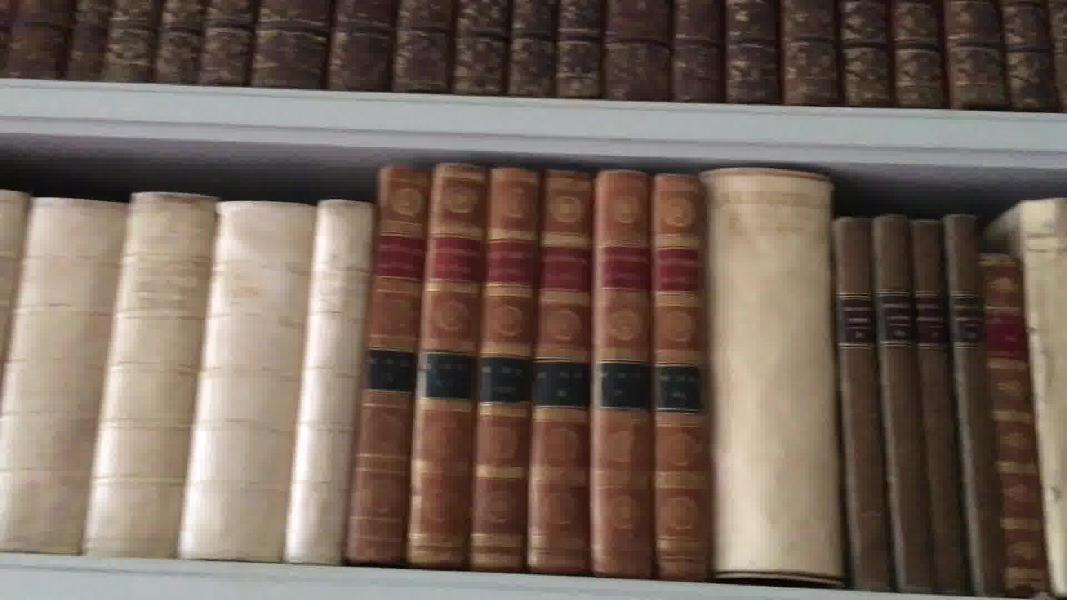Kk4-14: (693, 158, 846, 596)
Kk4-15_16: (829, 214, 938, 600)
Kk4-17_18: (906, 208, 991, 600)
Kk4-19: (972, 246, 1053, 600)
Kk4-3_7: (2, 185, 374, 568)
Kk4-8_13: (343, 164, 717, 577)
